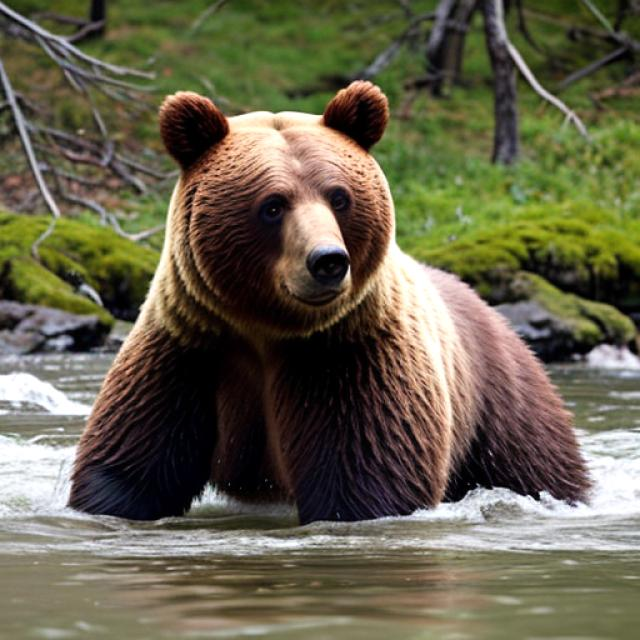bear: (89, 96, 539, 554)
